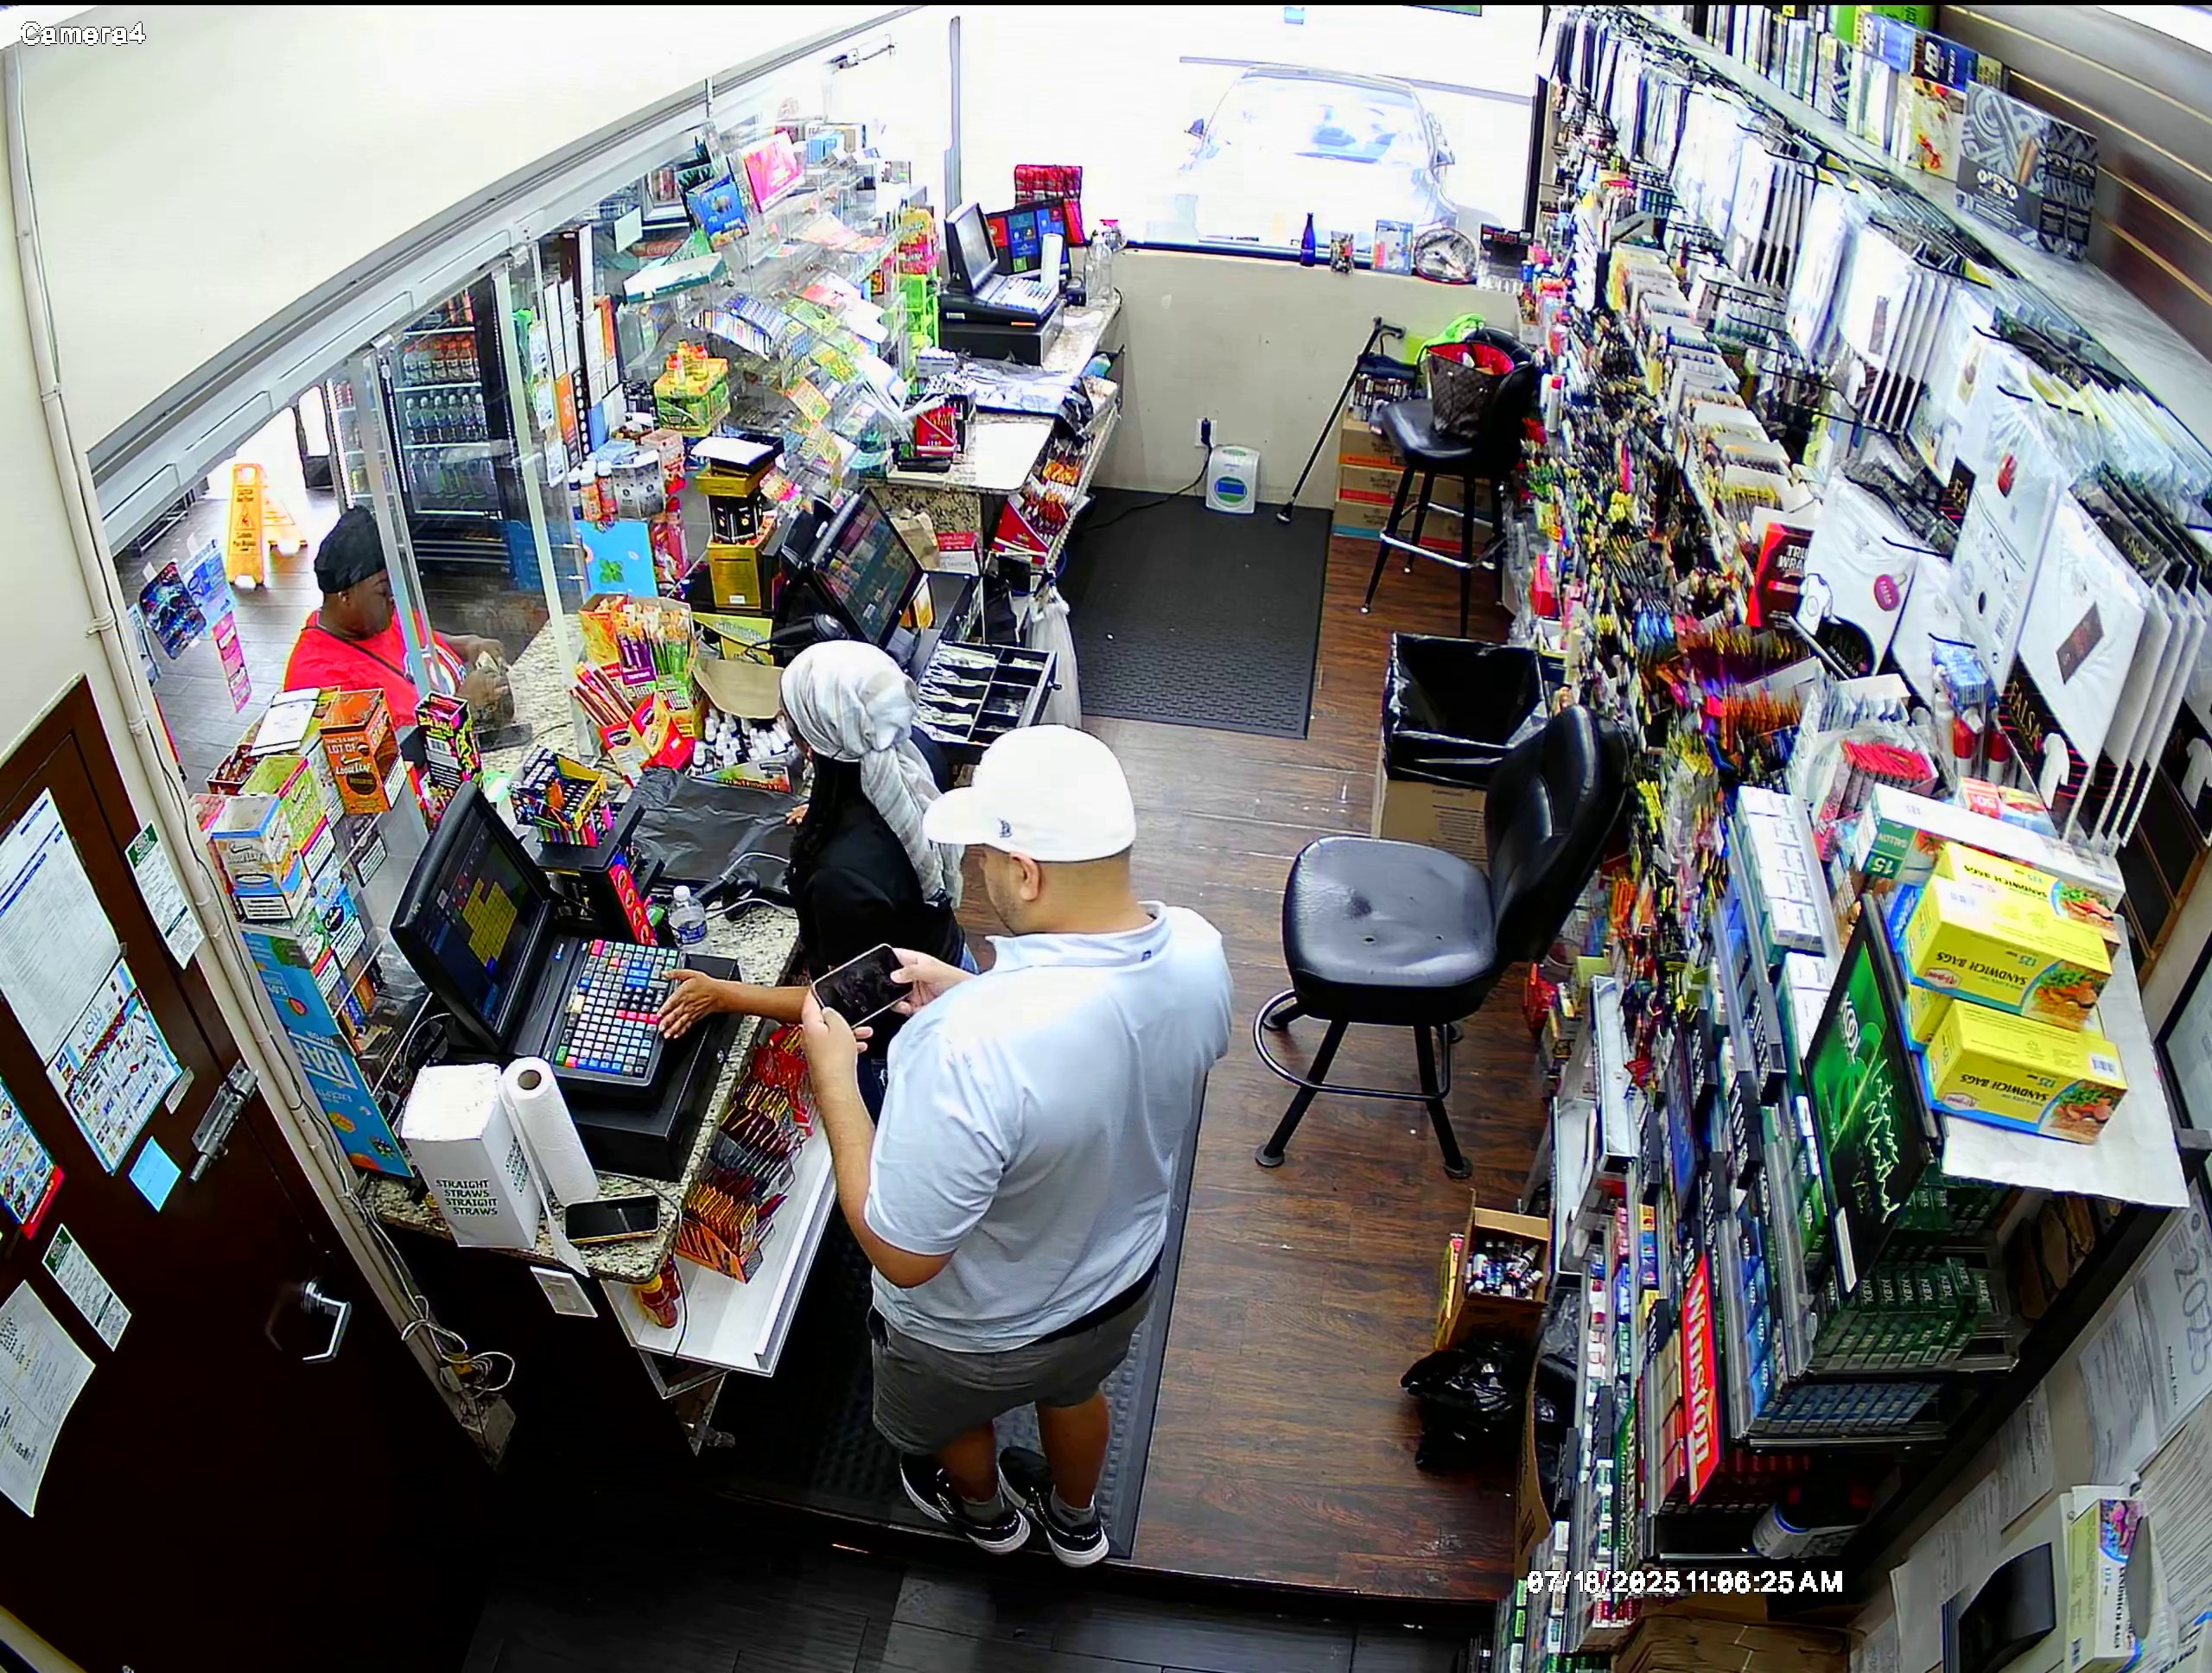phone: (801, 935, 926, 1033)
